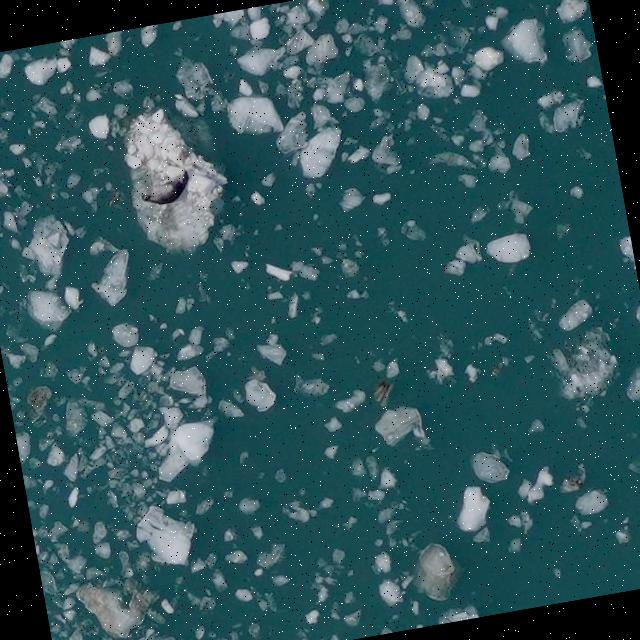seal: (136, 170, 192, 210)
